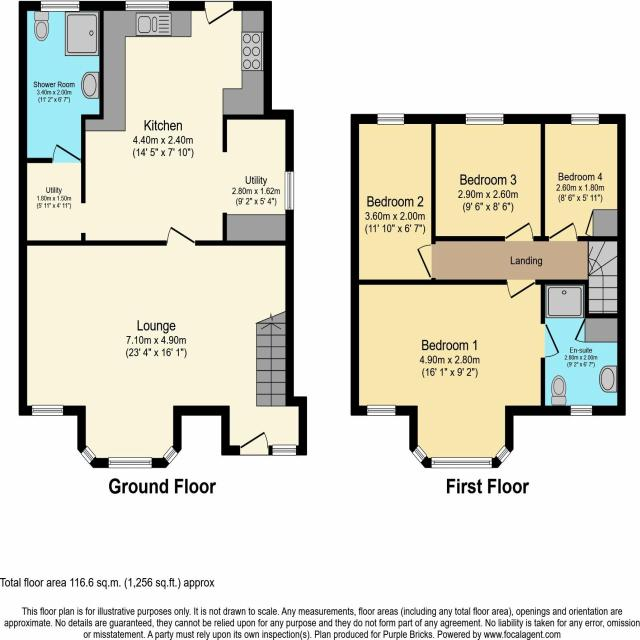DOOR: (204, 1, 235, 27), (540, 321, 561, 359), (239, 430, 270, 455), (416, 242, 436, 279), (165, 225, 196, 247), (51, 142, 81, 164), (505, 279, 536, 300), (504, 221, 534, 242), (547, 221, 578, 241)
ROOM: (17, 222, 308, 469), (80, 0, 294, 246), (351, 280, 562, 469), (350, 114, 436, 285), (431, 113, 545, 241), (541, 113, 625, 242)
WINDOW: (430, 457, 492, 468), (108, 456, 152, 469), (40, 0, 81, 13), (463, 113, 504, 126), (125, 0, 170, 11), (284, 170, 294, 211), (31, 405, 64, 417), (569, 113, 600, 125), (366, 405, 396, 417), (410, 444, 428, 463), (376, 113, 404, 125), (80, 445, 96, 465), (495, 445, 511, 465), (568, 404, 592, 417), (163, 446, 179, 465), (272, 444, 297, 456)
